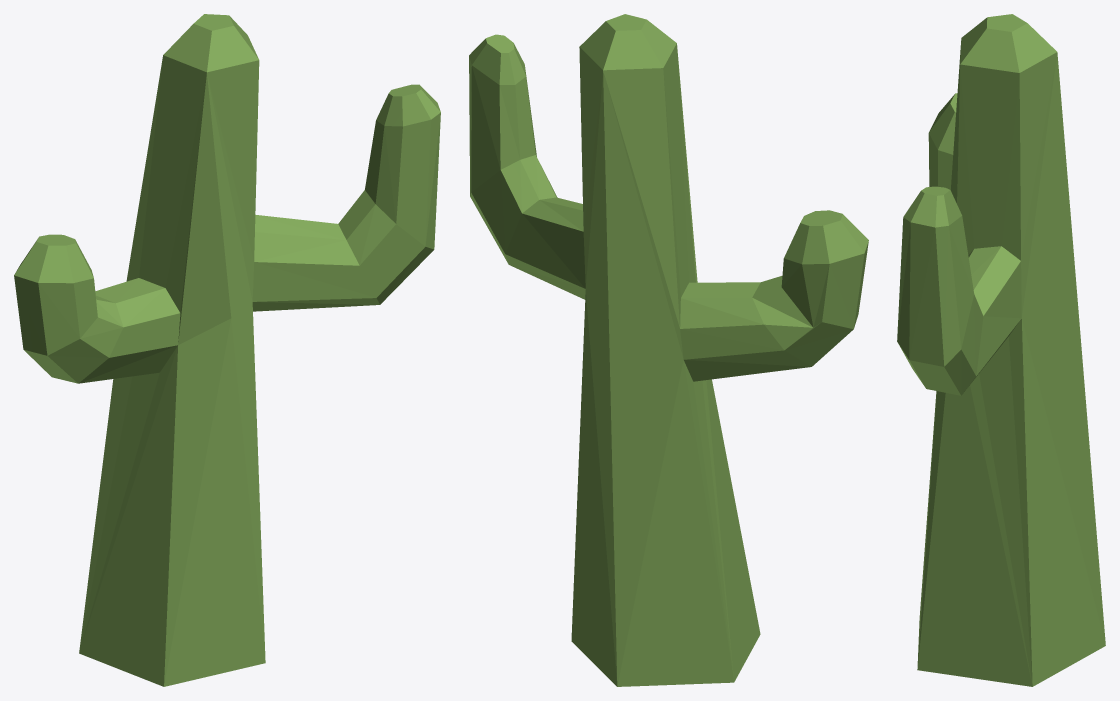
Rendered from Vegetation_Cactus_01.fbx.
3 views of the same model, side by side, from view 1: azimuth 30°, elevation 25°; view 2: azimuth 150°, elevation 25°; view 3: azimuth 270°, elevation 25° (orthographic). The views are drawn at different scales.
Visible parts, largest first — view 1: Vegetation_Cactus_01; view 2: Vegetation_Cactus_01; view 3: Vegetation_Cactus_01.
Part boxes in pixels (<box>): Vegetation_Cactus_01: <box>14,14,440,686</box>; Vegetation_Cactus_01: <box>469,14,868,686</box>; Vegetation_Cactus_01: <box>897,14,1105,686</box>.
Size of the model in its own units: 1200 by 1724 by 508.
